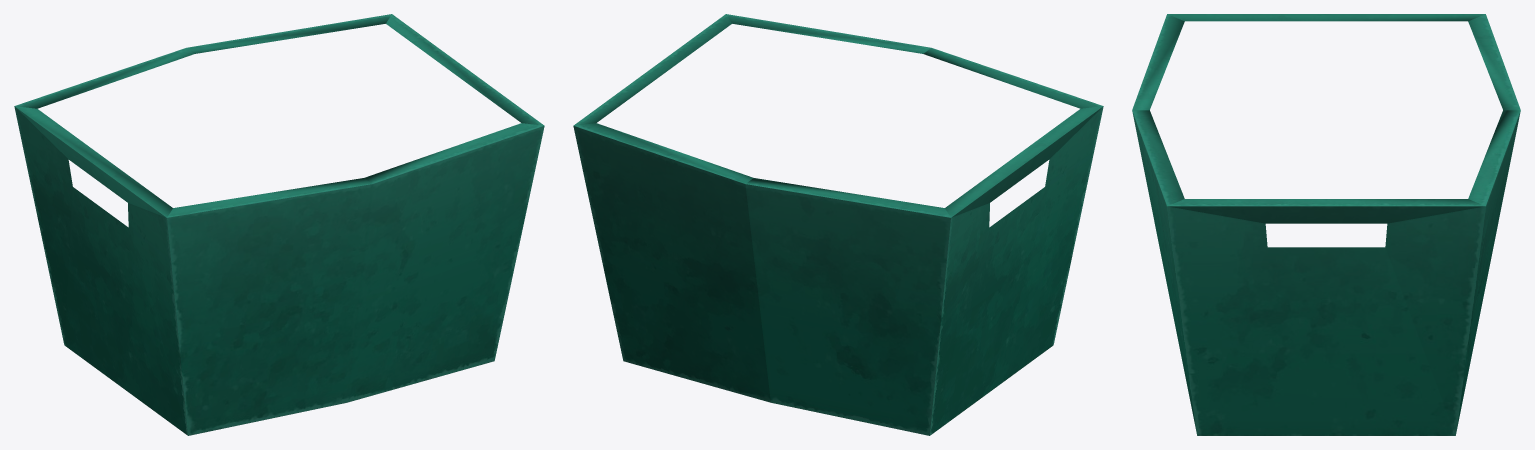
File: Plastic_Basket.glb
3 views of the same model, side by side, from view 1: azimuth 30°, elevation 25°; view 2: azimuth 150°, elevation 25°; view 3: azimuth 270°, elevation 25° (orthographic). The views are drawn at different scales.
Parts seen in each view (by area): view 1: Plastic_Basket; view 2: Plastic_Basket; view 3: Plastic_Basket.
Part boxes in pixels (x1=…): Plastic_Basket: x1=14, y1=14, x2=544, y2=435; Plastic_Basket: x1=573, y1=14, x2=1103, y2=435; Plastic_Basket: x1=1132, y1=14, x2=1520, y2=435.
Size of the model in its own units: 0.7987 by 0.4796 by 0.682.
Materials: 1 (1 with a texture image).
